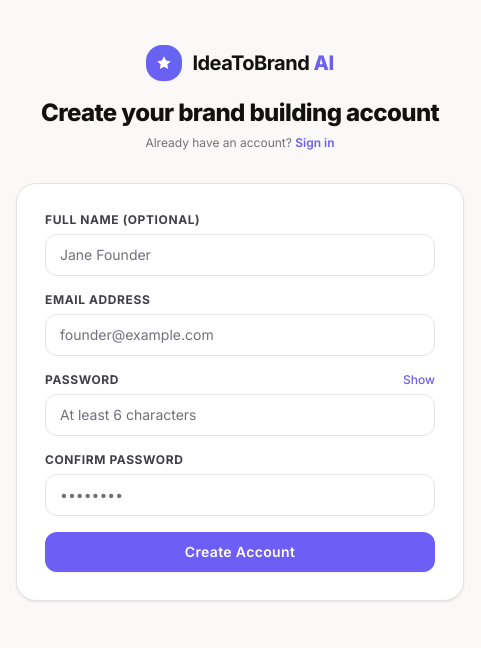
Test case: Supabase Auth Pages › validates password mismatch on SignupPage
The image size is (481, 648).
Type "test@example.com" into the field labelled "Email address" at (240, 335), box [45,314,435,356]
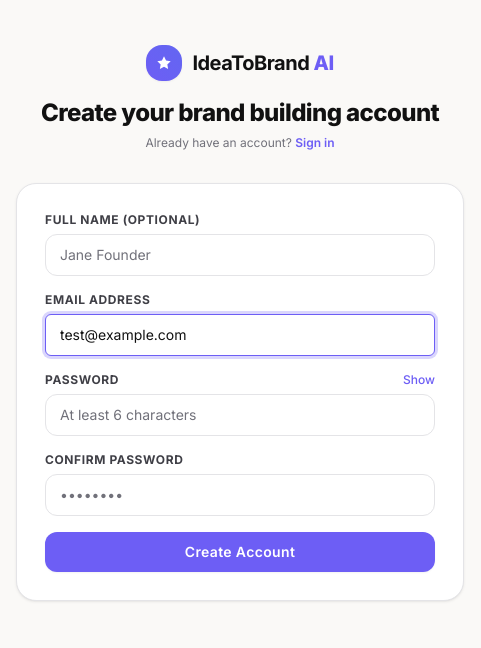
Type "password123" into the password field labelled "Password" at (240, 415), box [45,394,435,436]
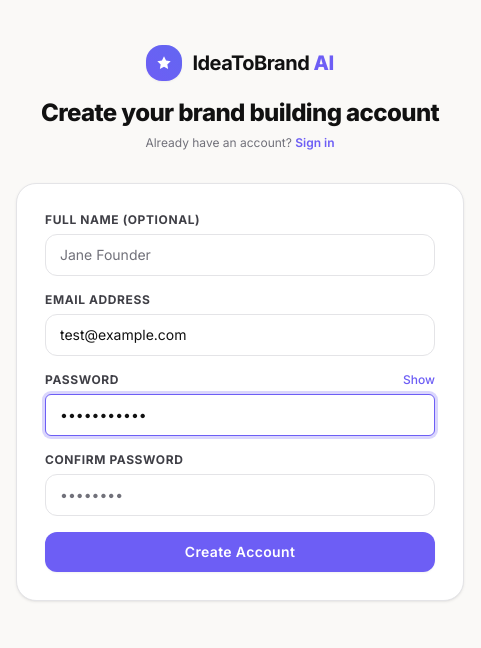
Type "different123" into the password field labelled "Confirm password" at (240, 495), box [45,474,435,516]
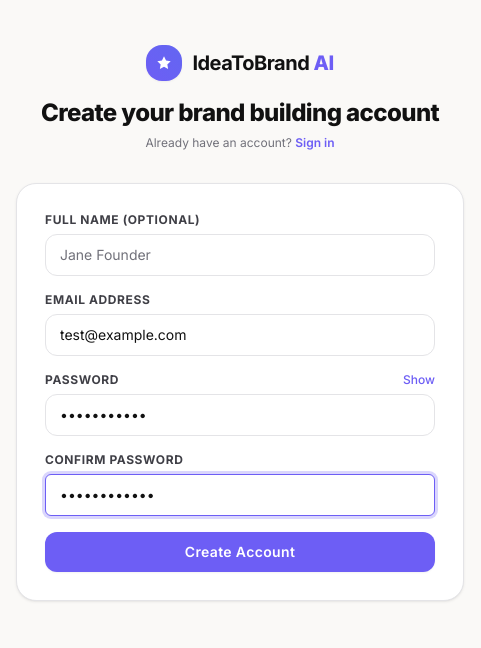
Click the button "Create Account" at (240, 552), box [45,532,435,572]
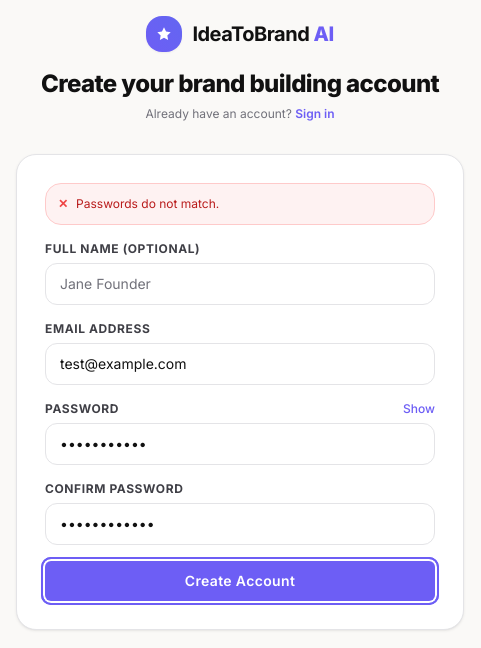
Now the message shows "Passwords do not match", box [76,196,219,211]
